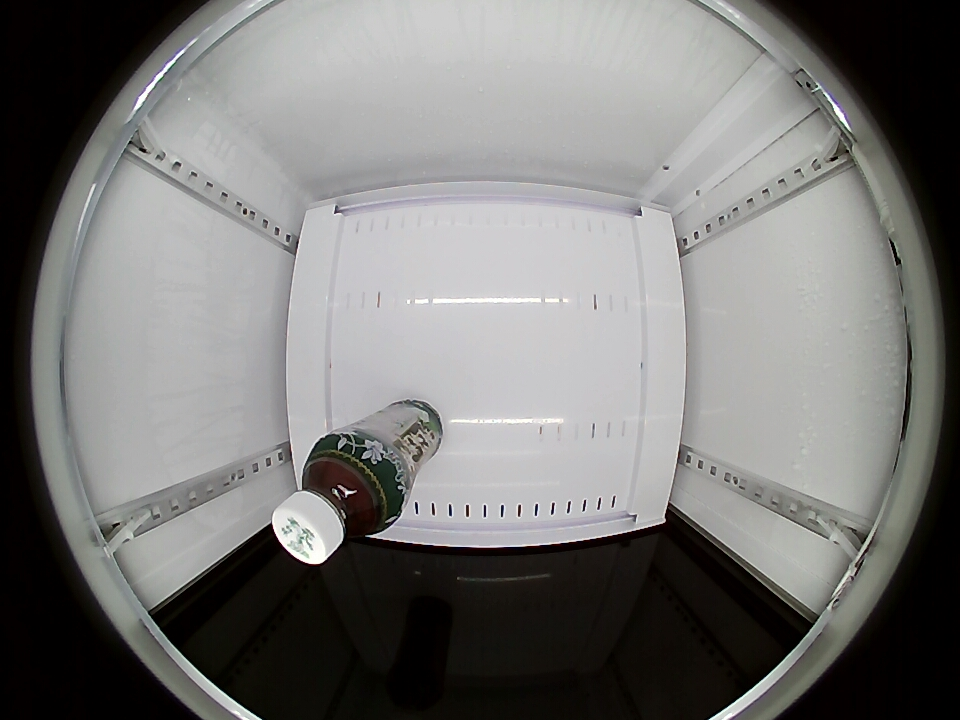moliqingcha: (272, 439, 402, 564)
